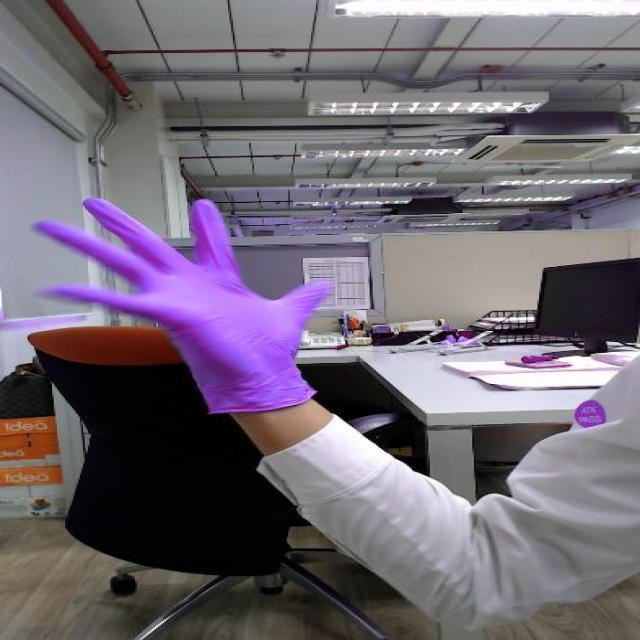gloved_hand: (37, 187, 360, 377)
